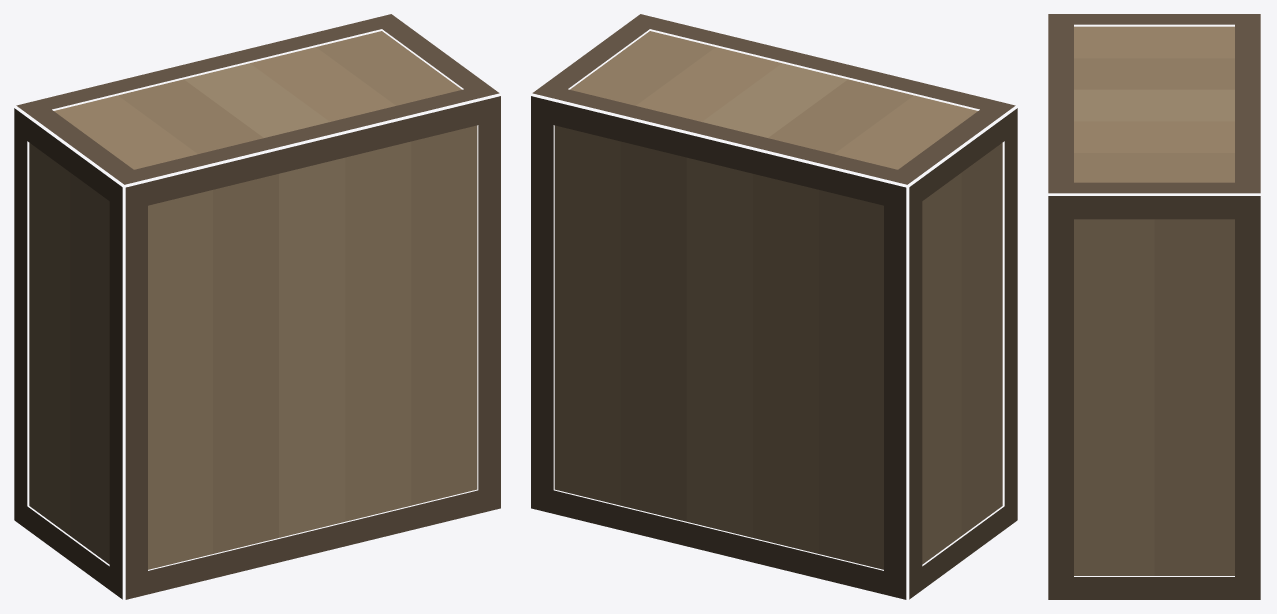
The model's file is crate.glb.
The picture shows the model from 3 angles, left to right: view 1: azimuth 30°, elevation 25°; view 2: azimuth 150°, elevation 25°; view 3: azimuth 270°, elevation 25°; orthographic projection. The views are drawn at different scales.
Size of the model in its own units: 2.02 by 2.11 by 1.02.
